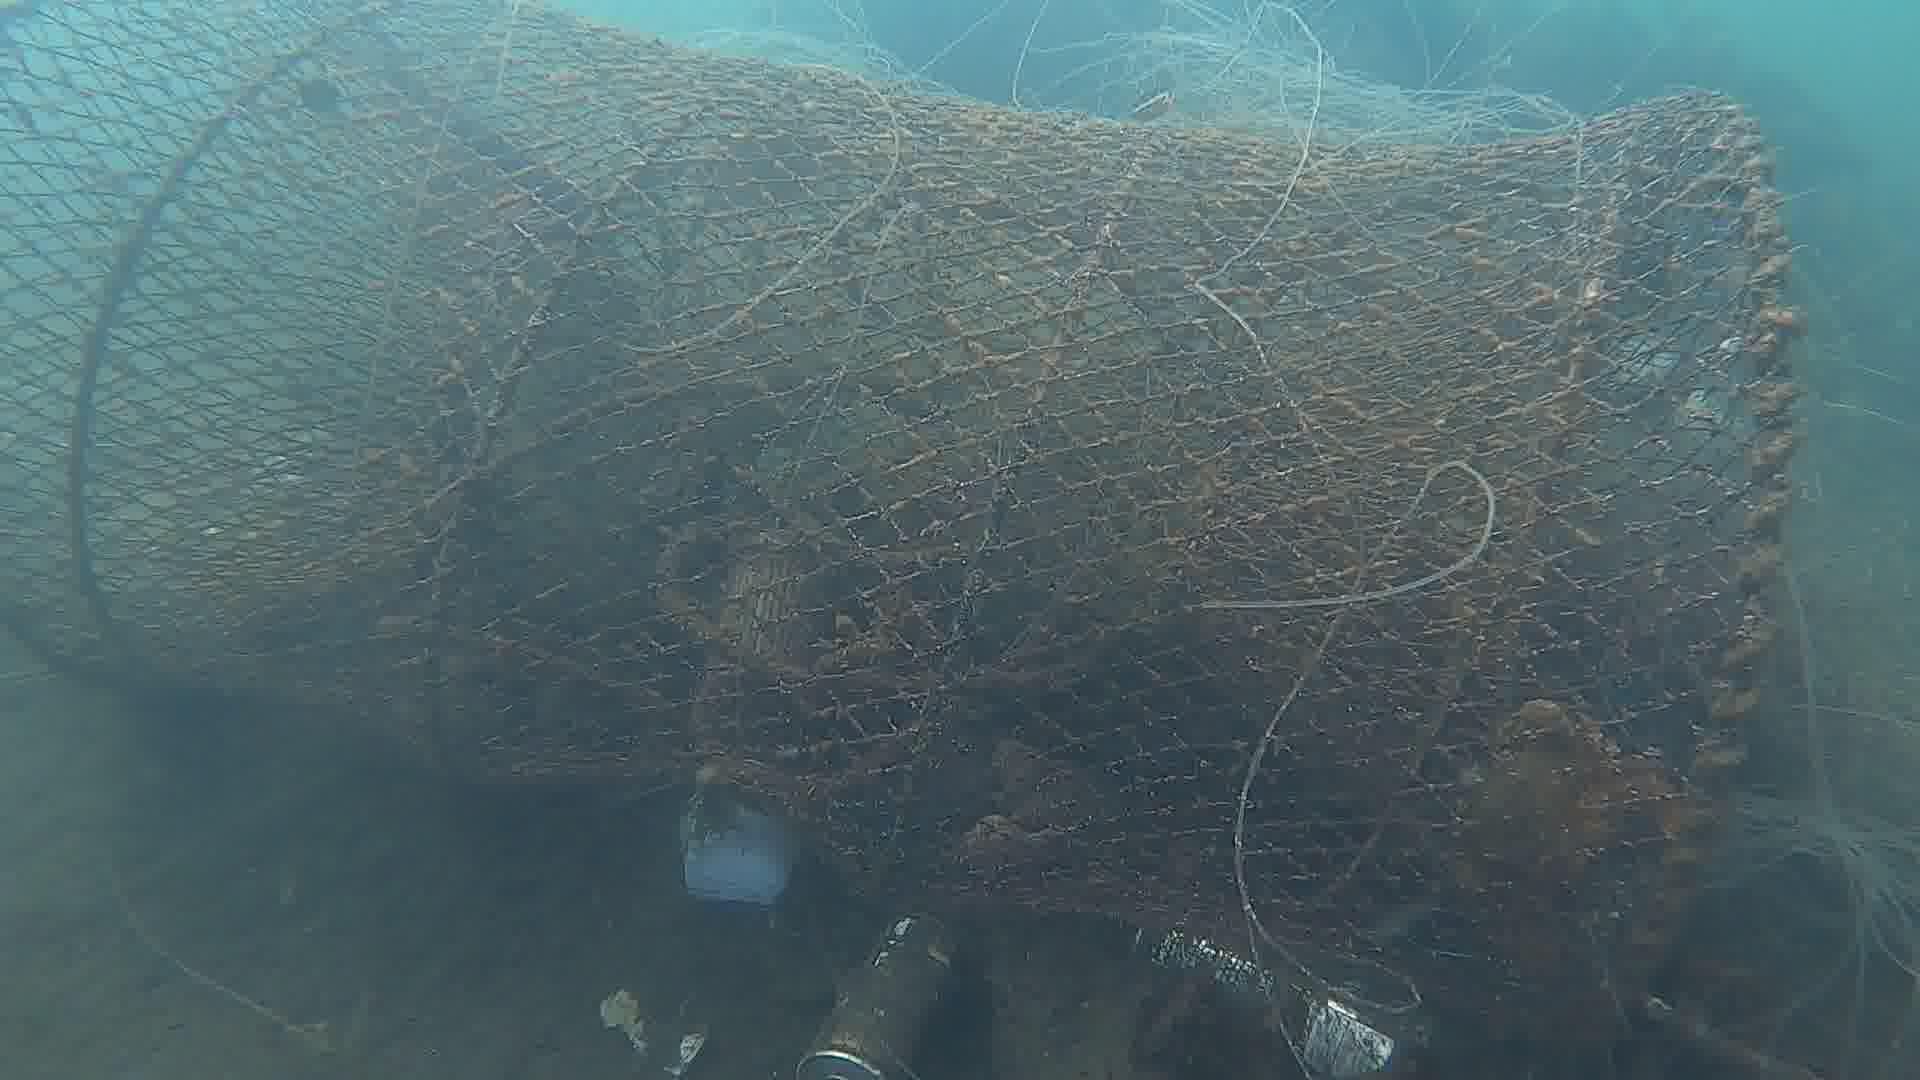spring fish trap: (3, 0, 1791, 1080)
